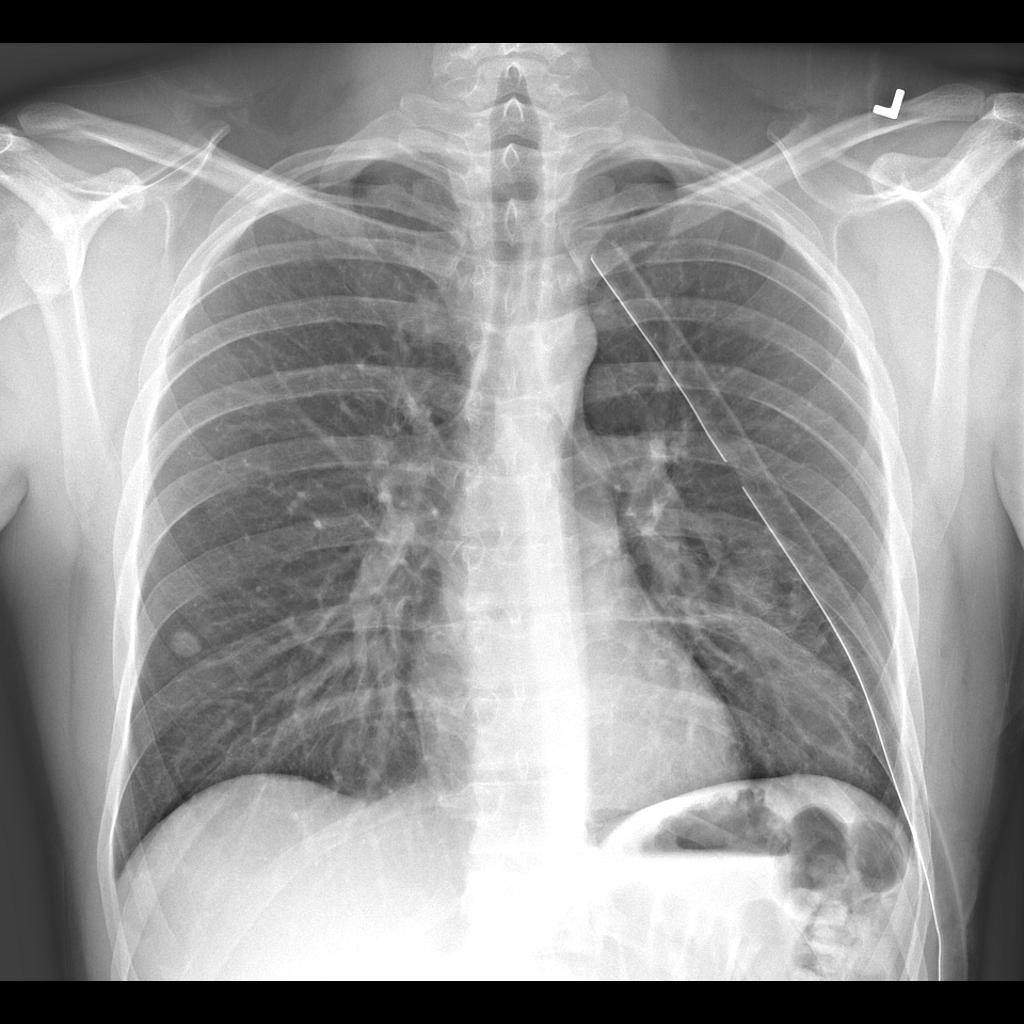Nodule: (715, 535, 784, 610), (170, 628, 205, 662)
